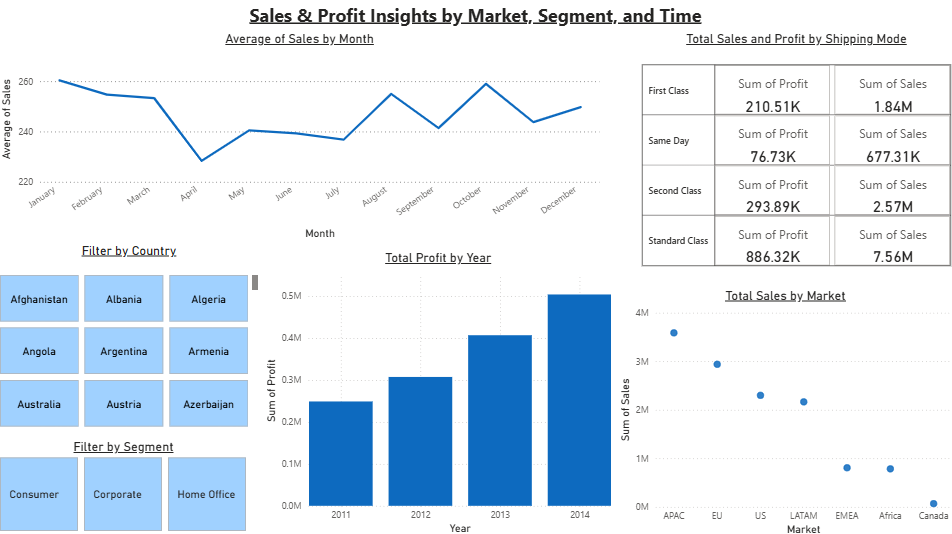

The page's visual inventory and layout, read from the dashboard file:
{"tool":"powerbi","page":{"name":"Dashboard","canvas":[1280,720],"ordinal":0},"visuals":[{"type":"lineChart","fields":{"Category":["Orders.Order Date.Variation.Date Hierarchy.Month"],"Y":["Avg(FactSales.Sales)"]},"box":[0,43.7,809.6,281.7],"z":0},{"type":"columnChart","title":"Total Profit by Year","fields":{"Y":["Sum(FactSales.Profit)"],"Category":["Orders.Order Date.Variation.Date Hierarchy.Year"]},"box":[354.6,336.8,471.2,383.8],"z":1000},{"type":"advancedSlicerVisual","title":"Filter by Country","fields":{"Values":["Orders.Country"]},"box":[0,325.5,354.6,251],"z":2000},{"type":"scatterChart","title":"Total Sales by Market","fields":{"Y":["Sum(FactSales.Sales)"],"X":["Orders.Market"]},"box":[825.8,385.4,453.4,335.2],"z":3000},{"type":"advancedSlicerVisual","title":"Filter by Segment","fields":{"Values":["Orders.Segment"]},"box":[0,587.8,340,127.9],"z":4000},{"type":"textbox","box":[227.5,0,822.5,42.5],"z":5000},{"type":"cardVisual","title":"Total Sales and Profit by Shipping Mode","fields":{"Data":["Sum(FactSales.Profit)","Sum(FactSales.Sales)"],"Rows":["Orders.Ship Mode"]},"box":[856.6,43.7,422.6,341.7],"z":6000}]}

Visuals, with their boxes in screenshot pixels (x1, y1, x2, y2), scaled from the page's 1280x720 canvas onto the 952x534 screenshot:
lineChart - Orders.Order Date.Variation.Date Hierarchy.Month x Avg(FactSales.Sales): (x1=0, y1=32, x2=602, y2=241)
"Total Profit by Year" columnChart: (x1=264, y1=250, x2=614, y2=533)
"Filter by Country" advancedSlicerVisual: (x1=0, y1=241, x2=264, y2=428)
"Total Sales by Market" scatterChart: (x1=614, y1=286, x2=951, y2=533)
"Filter by Segment" advancedSlicerVisual: (x1=0, y1=436, x2=253, y2=531)
textbox: (x1=169, y1=0, x2=781, y2=32)
"Total Sales and Profit by Shipping Mode" cardVisual: (x1=637, y1=32, x2=951, y2=286)
